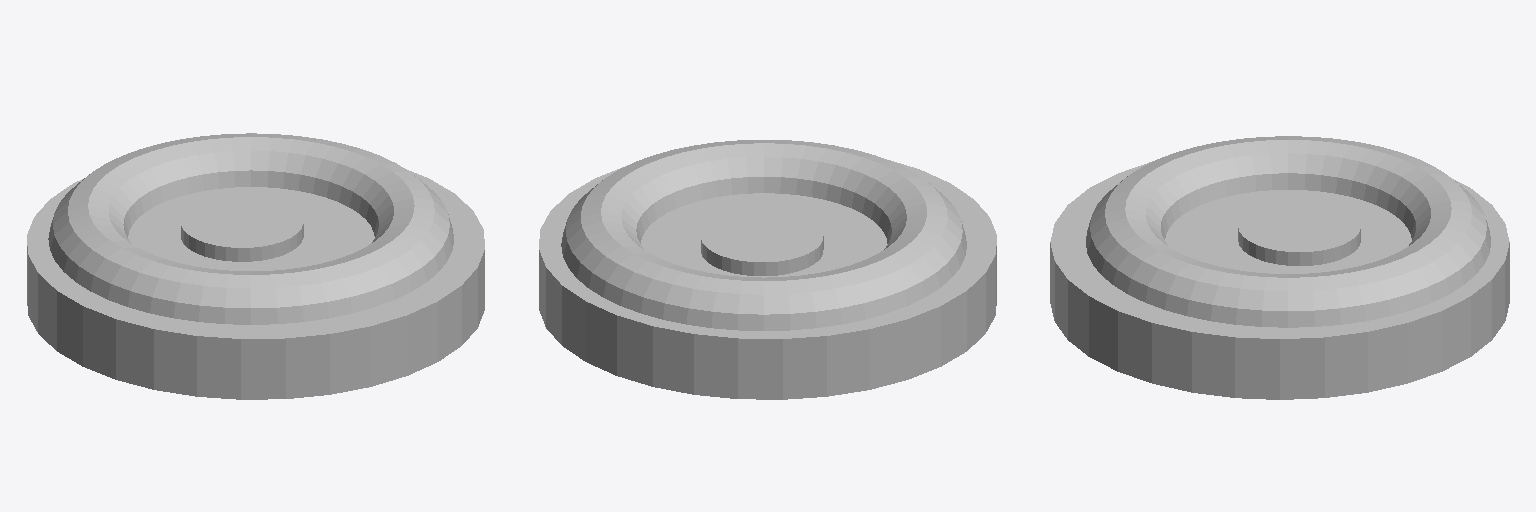
File: landmine.obj
3 renders of one model, left to right at view 1: azimuth 30°, elevation 25°; view 2: azimuth 150°, elevation 25°; view 3: azimuth 270°, elevation 25°, orthographic.
Visible parts, largest first — view 1: GDW_Landmine; view 2: GDW_Landmine; view 3: GDW_Landmine.
Boxes of the visible parts, x1=… form: GDW_Landmine: x1=27, y1=133, x2=484, y2=399; GDW_Landmine: x1=539, y1=140, x2=996, y2=399; GDW_Landmine: x1=1050, y1=136, x2=1509, y2=399.
Bounding box in the file's own units: 0.9007 × 0.2032 × 0.9007.